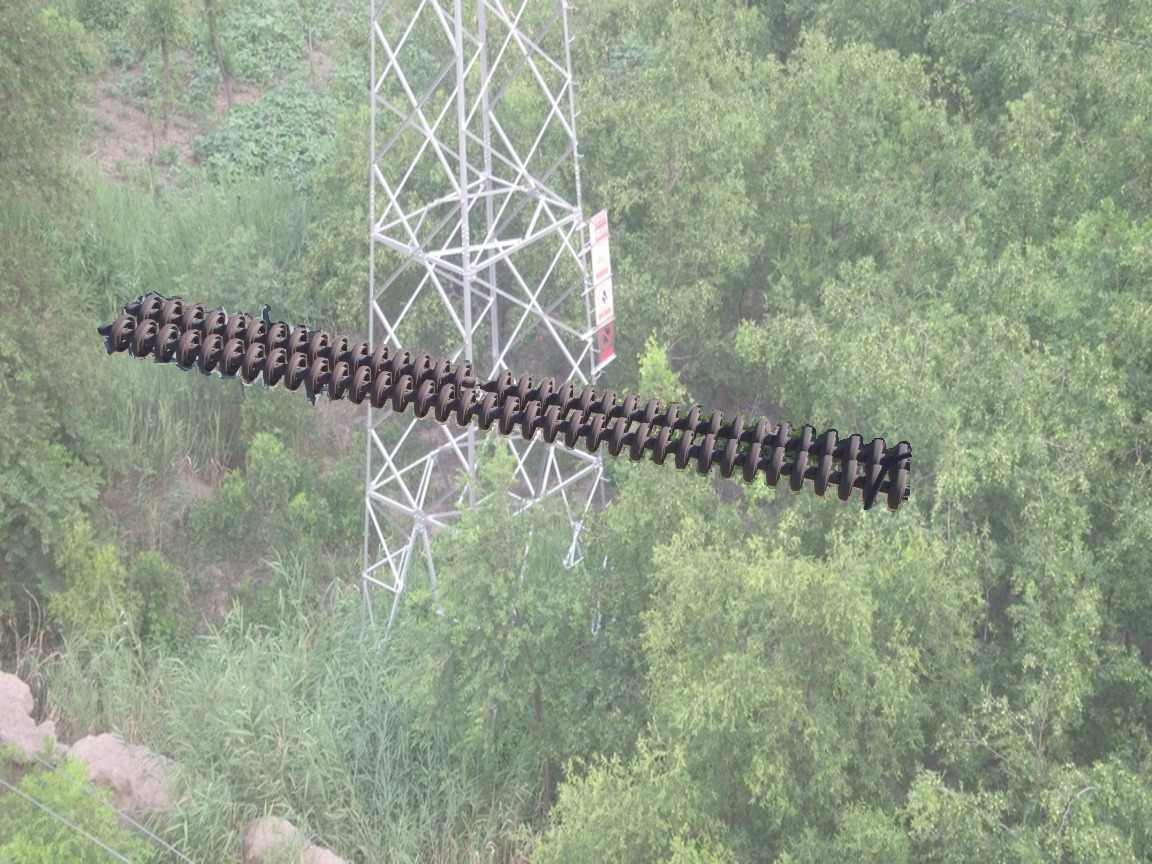defect: (448, 359, 517, 394)
